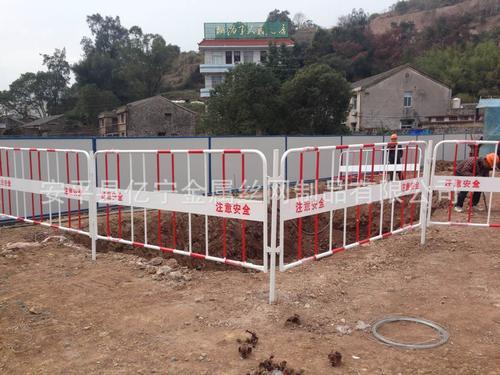sign: (8, 142, 278, 281), (276, 135, 500, 266)
